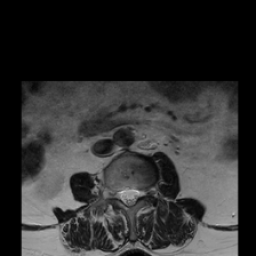CCS_normal: (126, 179, 133, 212)
LFS_normal: (140, 180, 148, 203)
LLS_normal: (133, 180, 140, 208)
RFS_normal: (111, 180, 118, 205)
RLS_normal: (118, 180, 126, 207)
